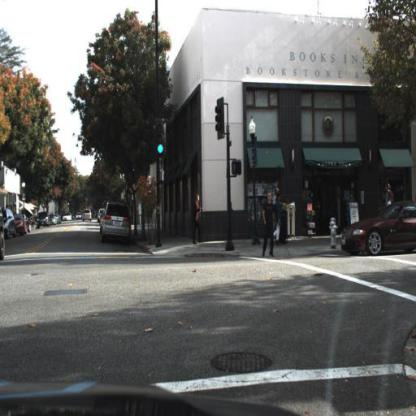car: (339, 197, 415, 262), (340, 203, 416, 257), (97, 201, 136, 247), (3, 206, 15, 240), (15, 213, 29, 236), (36, 211, 50, 229), (82, 209, 93, 222)
pedestrian: (263, 191, 278, 259), (192, 194, 203, 245), (382, 179, 396, 213), (384, 183, 395, 208)
trafficLight-Green: (155, 119, 165, 154)
